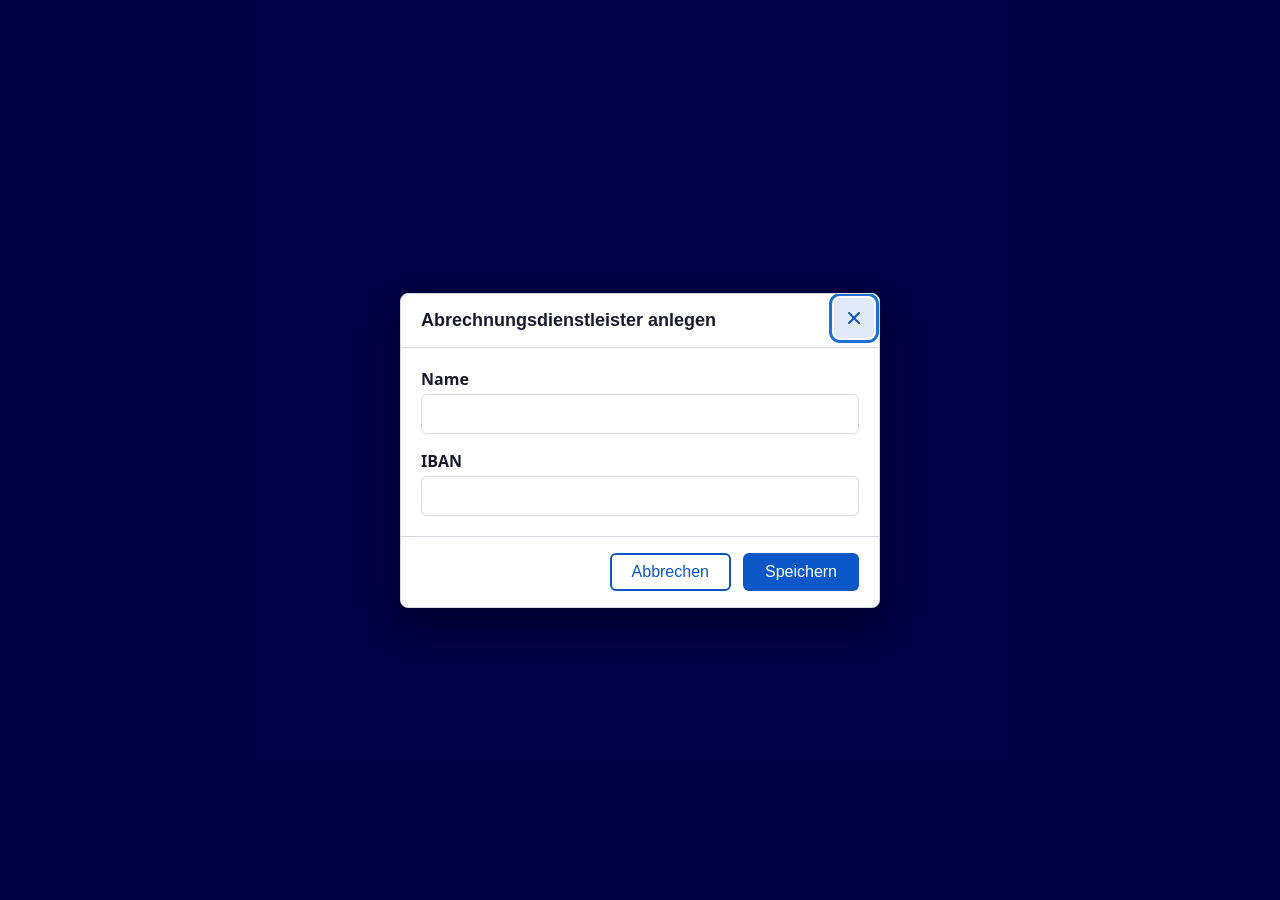
Test case: ResourceFormDialog › writes the value out when the field is left, before any save
In the field with class "eu-text-field__input" showing "IBAN": (640, 496) [421, 476, 859, 516], type "de02120300000000202051"
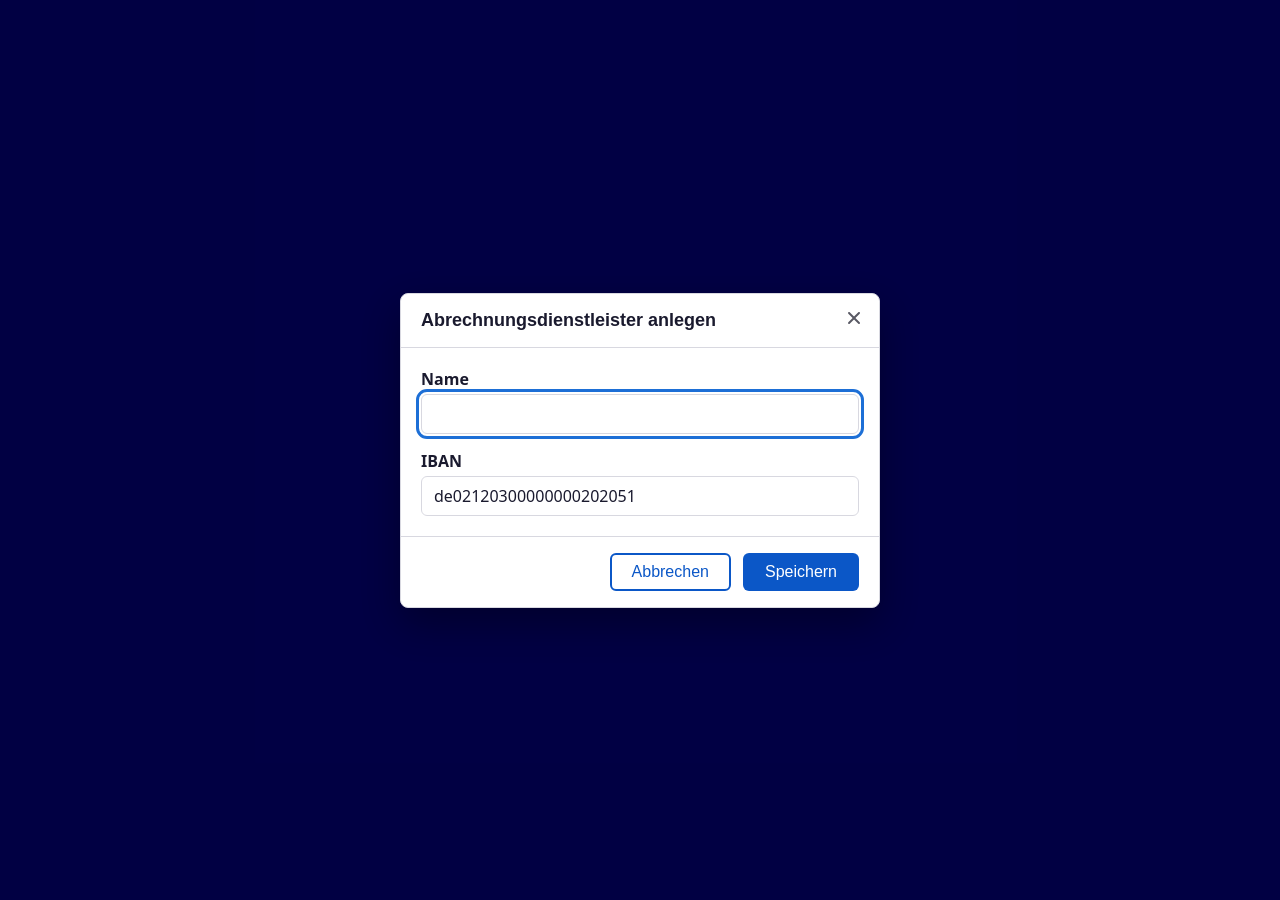
Leave the field with class "eu-text-field__input" showing "IBAN", box [421, 476, 859, 516]
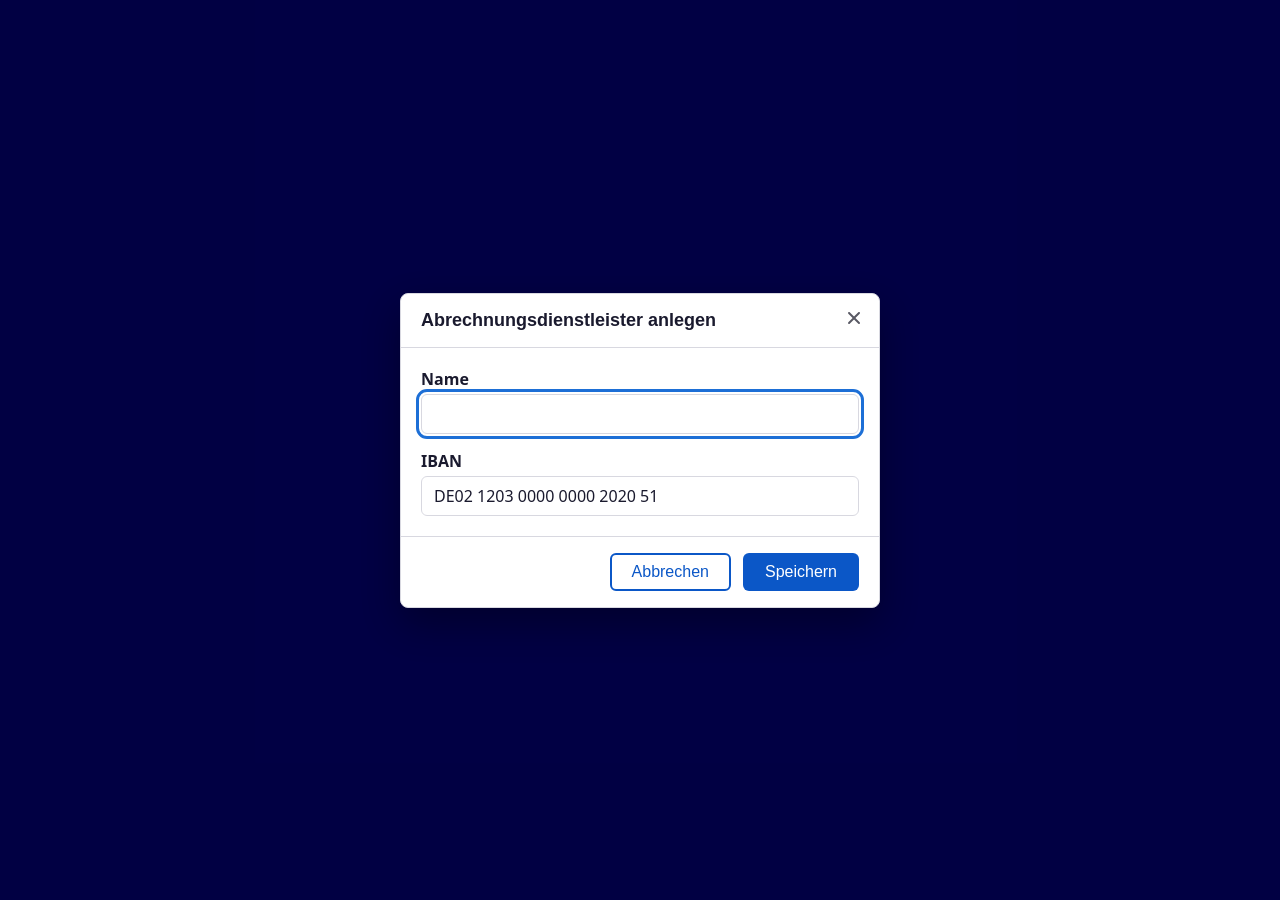
Expected: the field with class "eu-text-field__input" holds "DE02 1203 0000 0000 2020 51", [421, 476, 859, 516]
